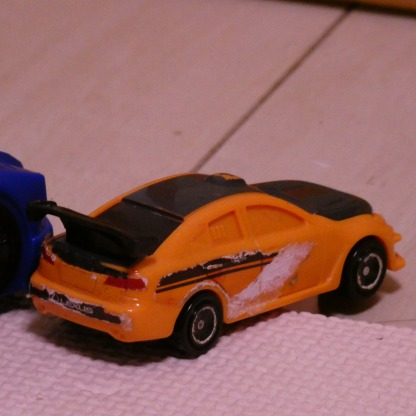car: (32, 171, 406, 361)
